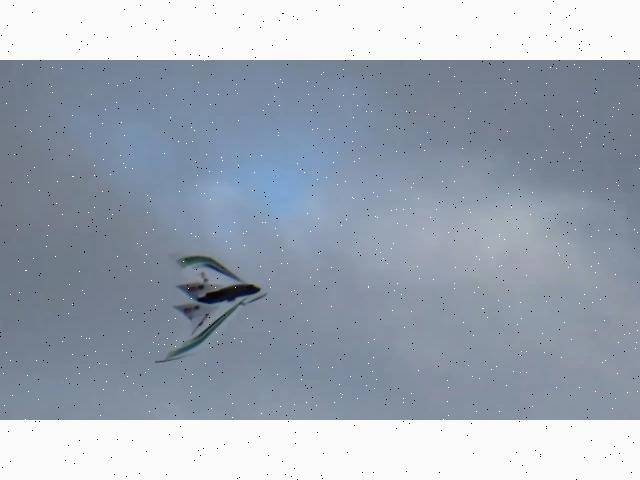Anti-Drone: (152, 248, 270, 364)
